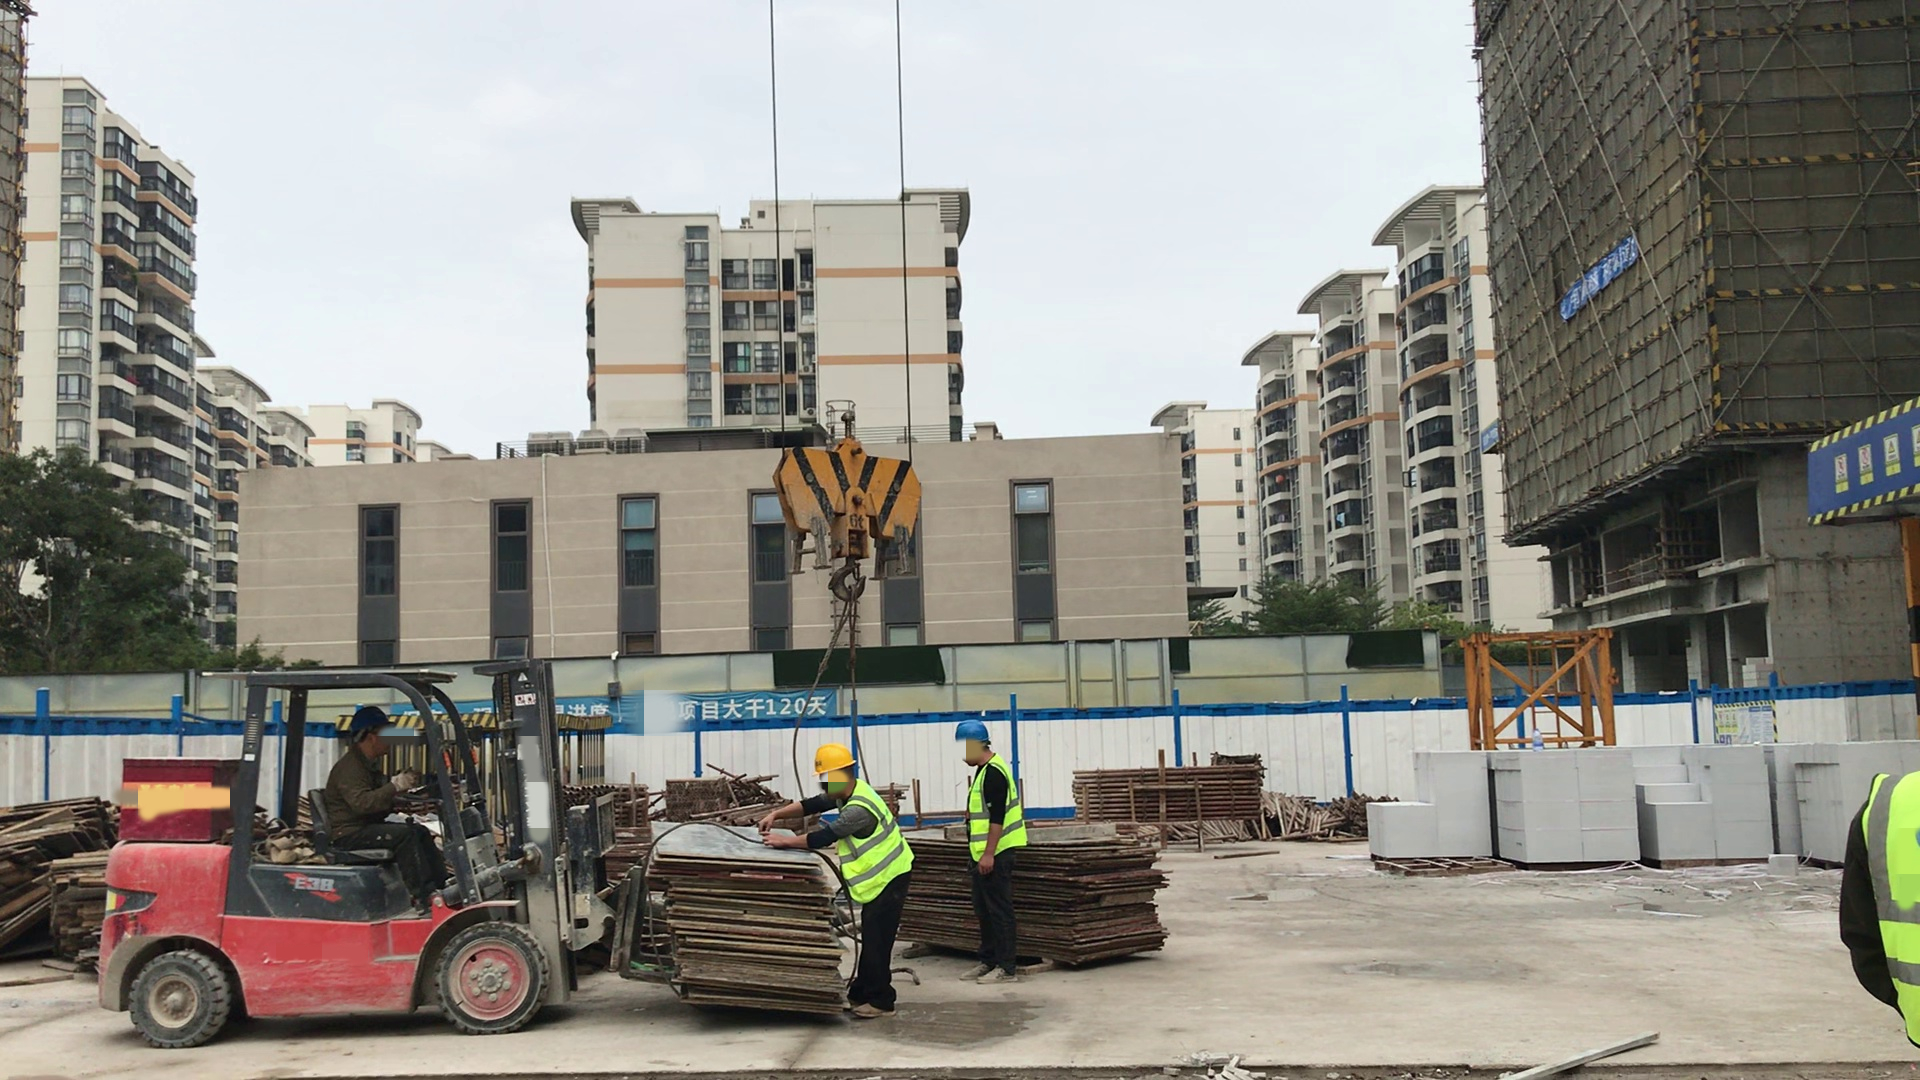board: (658, 820, 843, 1014), (1019, 841, 1163, 964)
brick: (1375, 757, 1852, 857)
helmet: (811, 745, 855, 775), (345, 708, 389, 737), (954, 721, 989, 745)
hook: (773, 415, 921, 601)
person: (778, 749, 908, 1018), (1846, 705, 1920, 1070), (330, 707, 450, 914), (950, 723, 1029, 987)
scaffold: (1076, 767, 1260, 818), (579, 782, 647, 828)
slogan: (561, 695, 829, 727), (1825, 426, 1920, 507), (1562, 238, 1636, 326)
vest: (1866, 774, 1920, 1038), (839, 783, 912, 906), (963, 756, 1025, 864)
